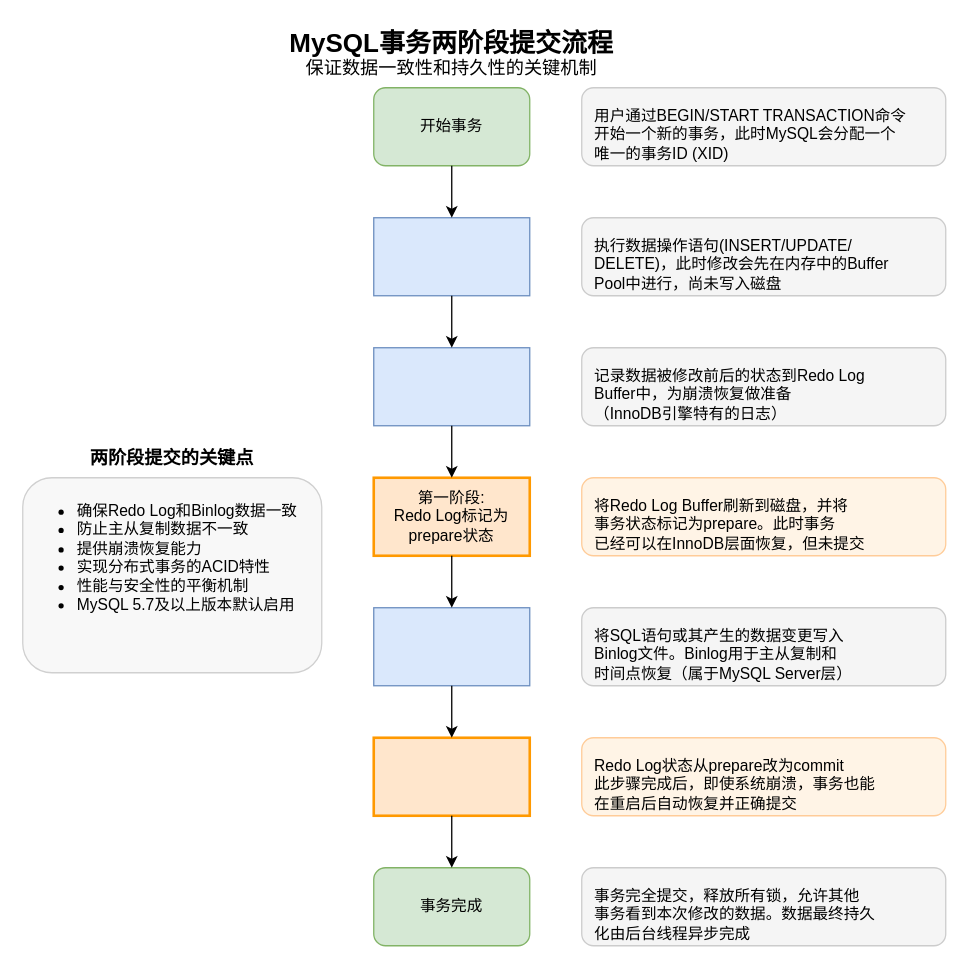
Some shapes in this 968 by 968 pixel diagram are drawn without their labels. Here are the shapes that lost their labels. From the top down, the centre of each, then its label:
(x=451, y=256): 执行SQL语句
(x=451, y=386): 写入Redo Log缓存
(x=451, y=646): 写入Binlog
(x=451, y=776): 第二阶段: Redo Log标记为commit状态
